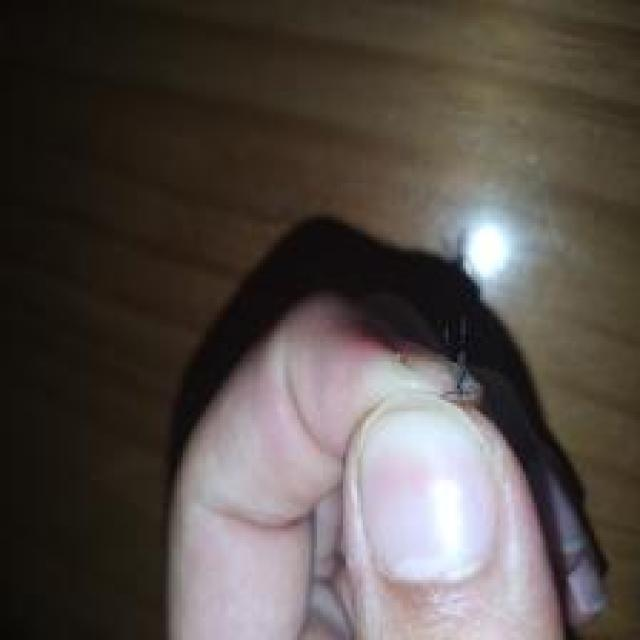Aedes albopictus: (160, 213, 614, 638)
